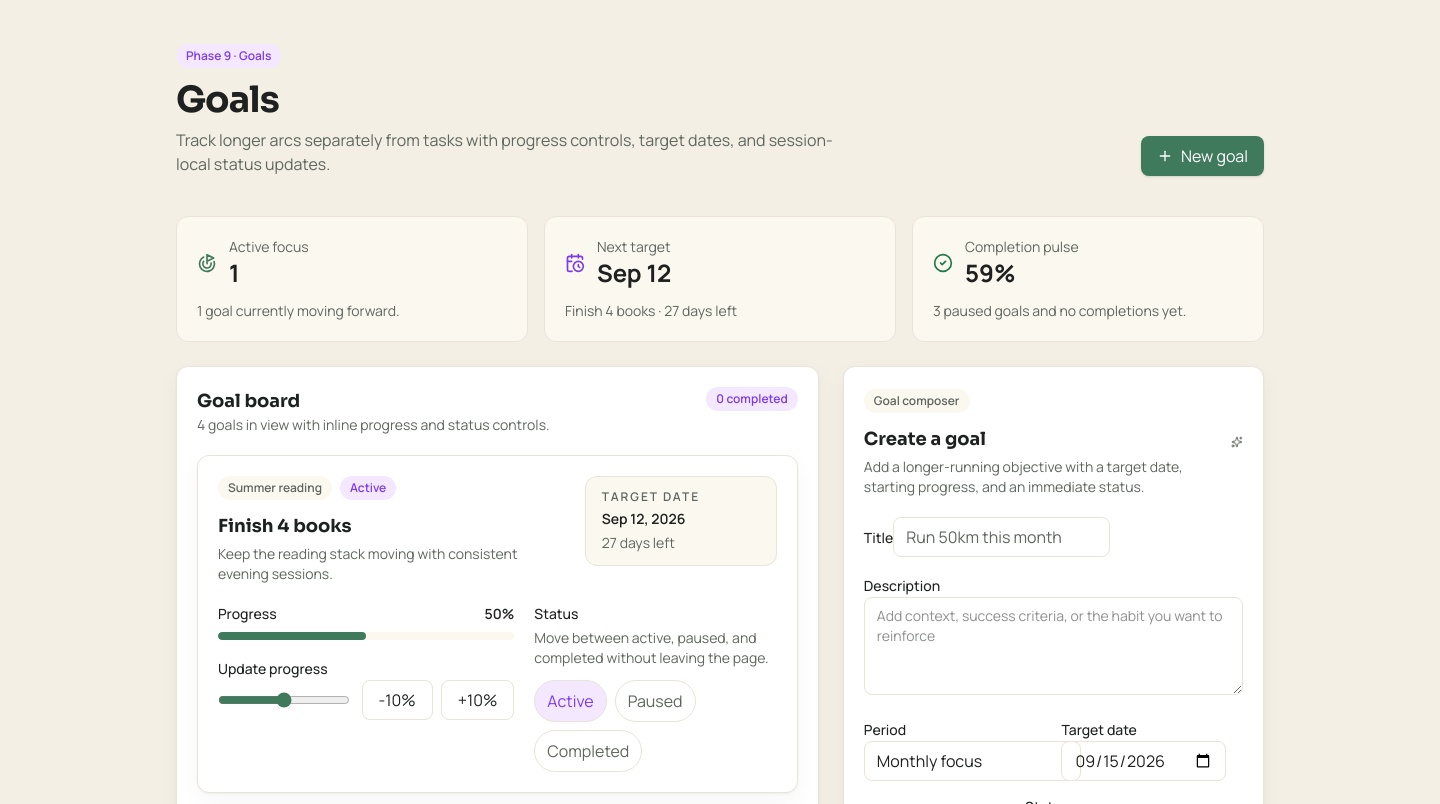
Test case: GoalsPage — the composer › creates a goal from the form
In the field labelled "Title": {"x": 1002, "y": 537} [893,517,1110,557], type "Learn to swim"
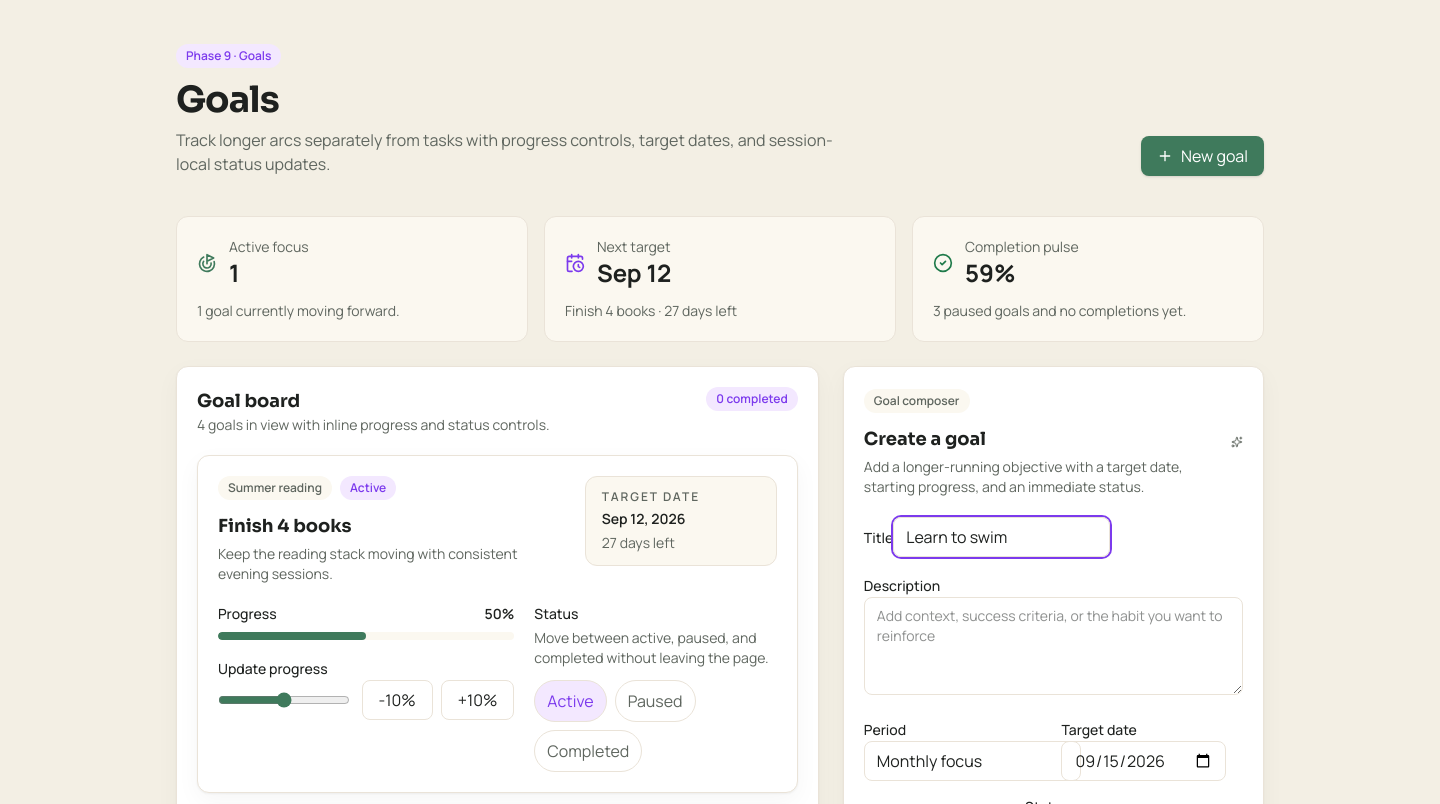
In the text box labelled "Description": {"x": 1053, "y": 646} [864,597,1243,695], type "Two sessions a week until it clicks."
(page scrolled)
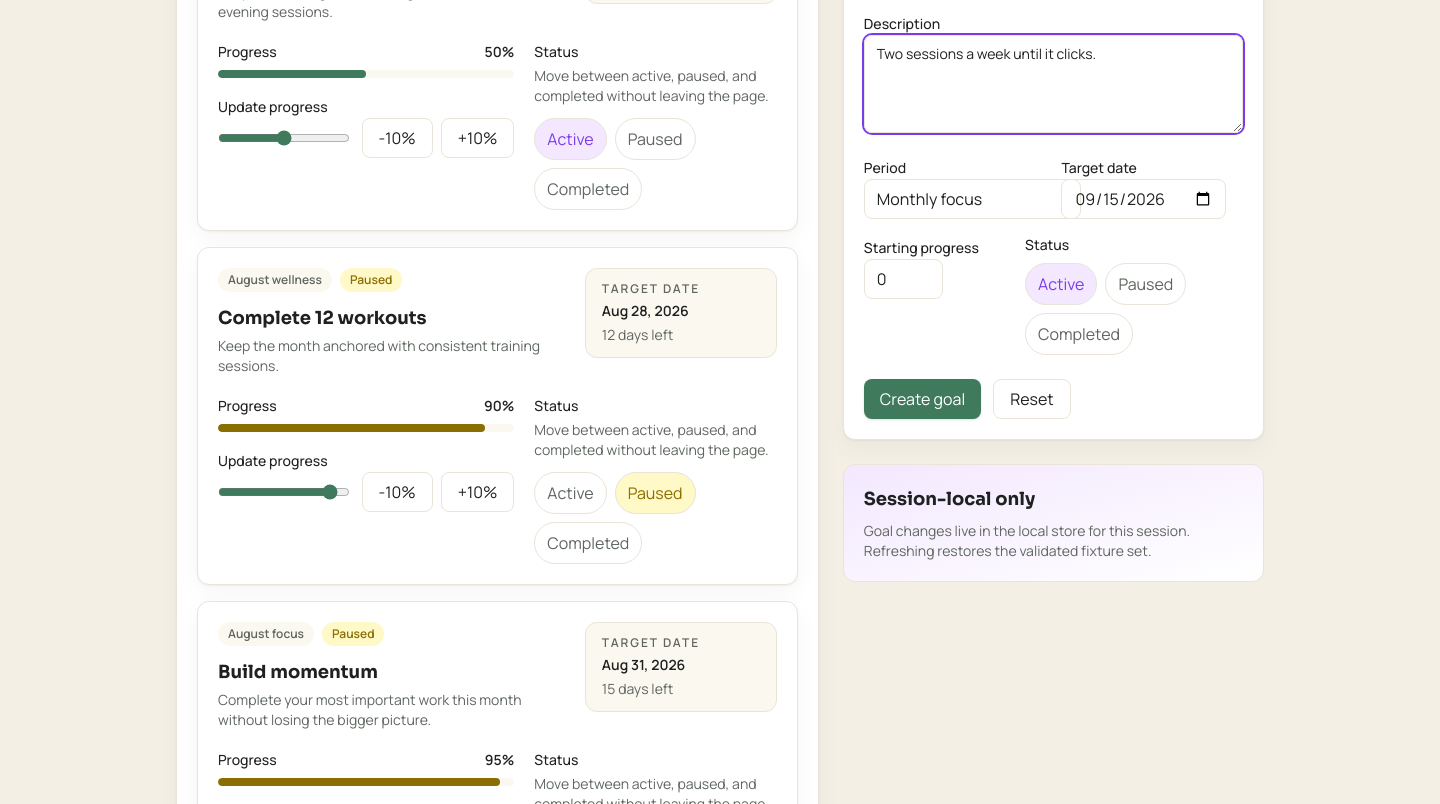
Click the button "Create goal": {"x": 922, "y": 399} [864,379,981,419]
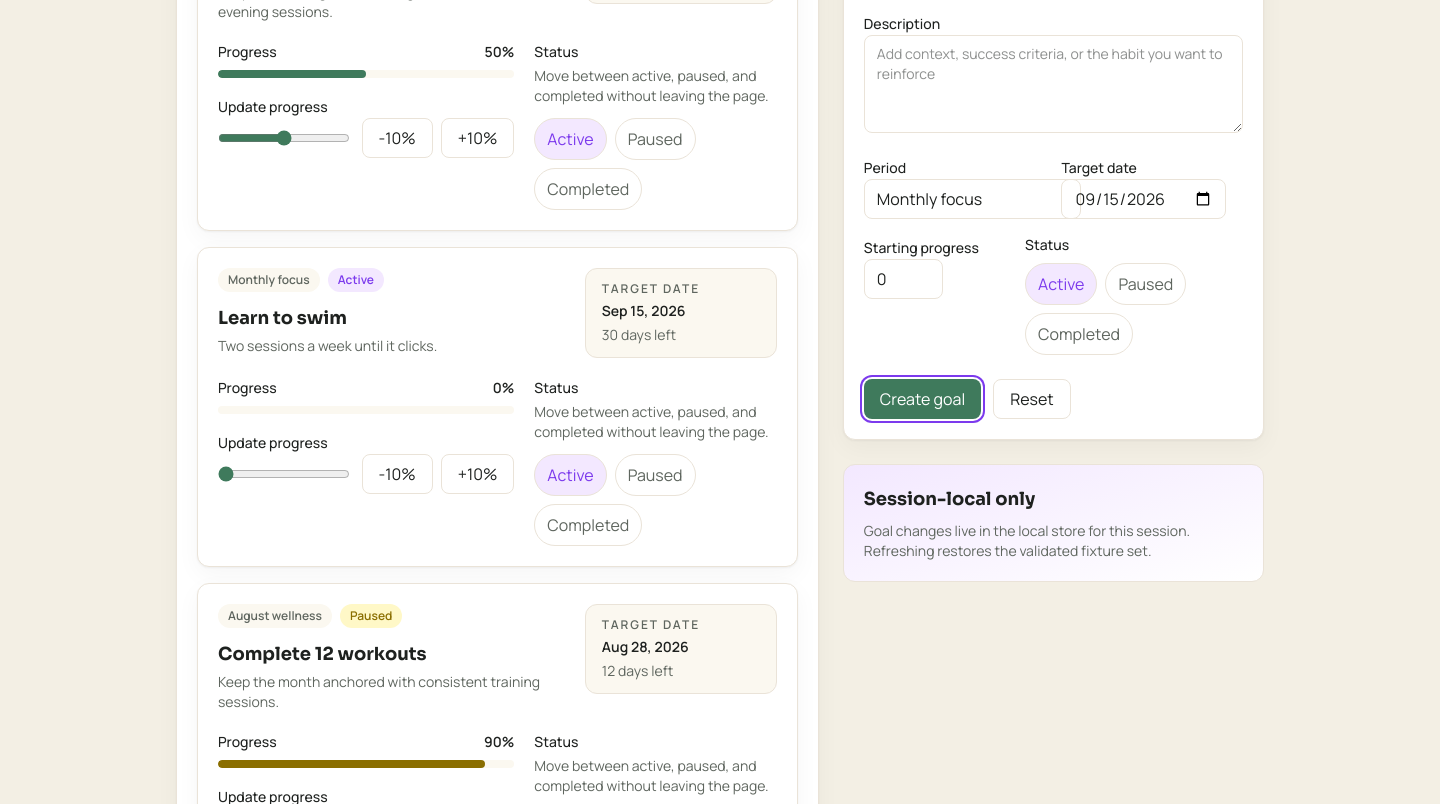
expect the heading "Learn to swim" is shown: met, box [218,307,347,329]
